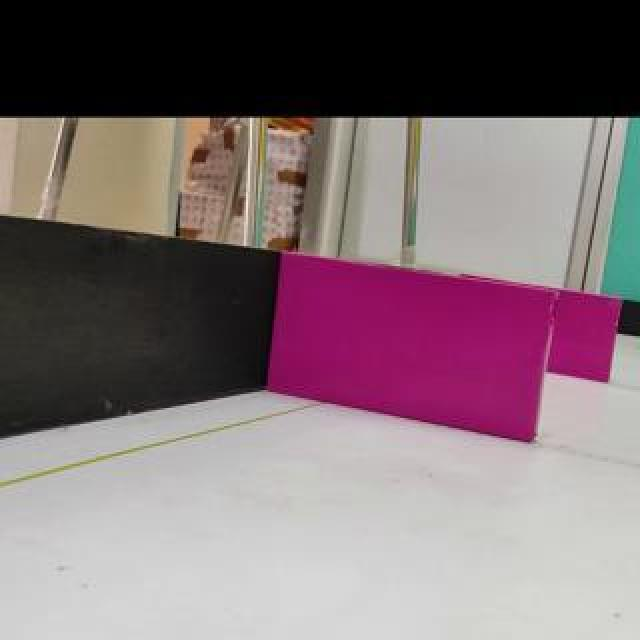xparking: (267, 255, 558, 446), (549, 293, 620, 385)
